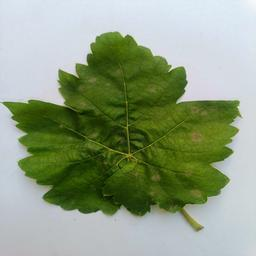Powdery-Mildew: (187, 103, 230, 146), (72, 70, 112, 100), (45, 137, 78, 170), (175, 159, 205, 180), (147, 169, 164, 186), (188, 184, 204, 200)
